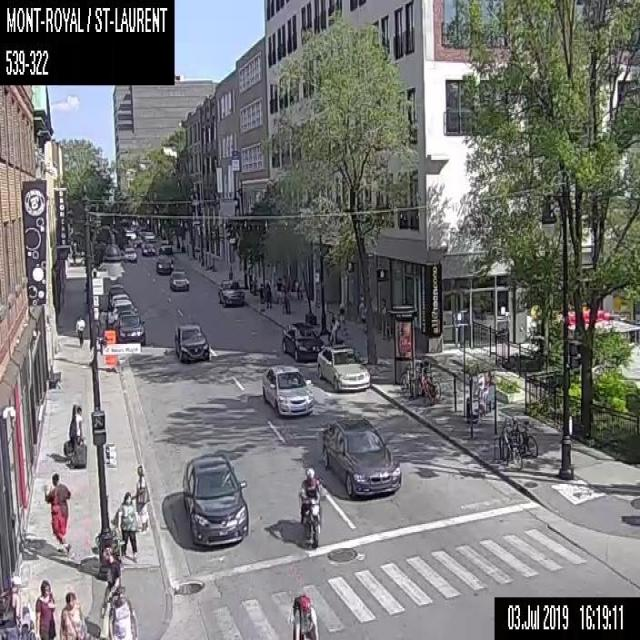construction: (102, 328, 115, 372)
cyclist: (290, 593, 322, 639)
pedestrian: (42, 472, 71, 553), (110, 487, 138, 562), (97, 583, 134, 639), (62, 402, 88, 467), (130, 461, 152, 536), (0, 574, 25, 638), (60, 588, 87, 639), (34, 574, 55, 638), (327, 303, 341, 341), (74, 314, 85, 346), (257, 282, 264, 312), (264, 280, 271, 309), (274, 275, 281, 301), (227, 263, 233, 277)
vehicle: (319, 412, 401, 497), (180, 450, 249, 550), (261, 361, 314, 415), (315, 342, 371, 390), (281, 318, 324, 364), (298, 464, 319, 548), (173, 320, 209, 363), (114, 311, 145, 347), (216, 276, 244, 307), (108, 296, 138, 320), (108, 284, 126, 310), (154, 252, 173, 276), (170, 270, 189, 290), (110, 292, 129, 312), (119, 245, 138, 262), (140, 240, 158, 256)
